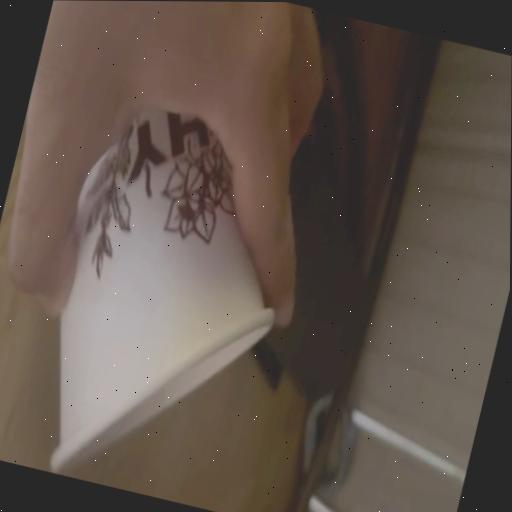Ly_giay: (50, 110, 272, 470)
